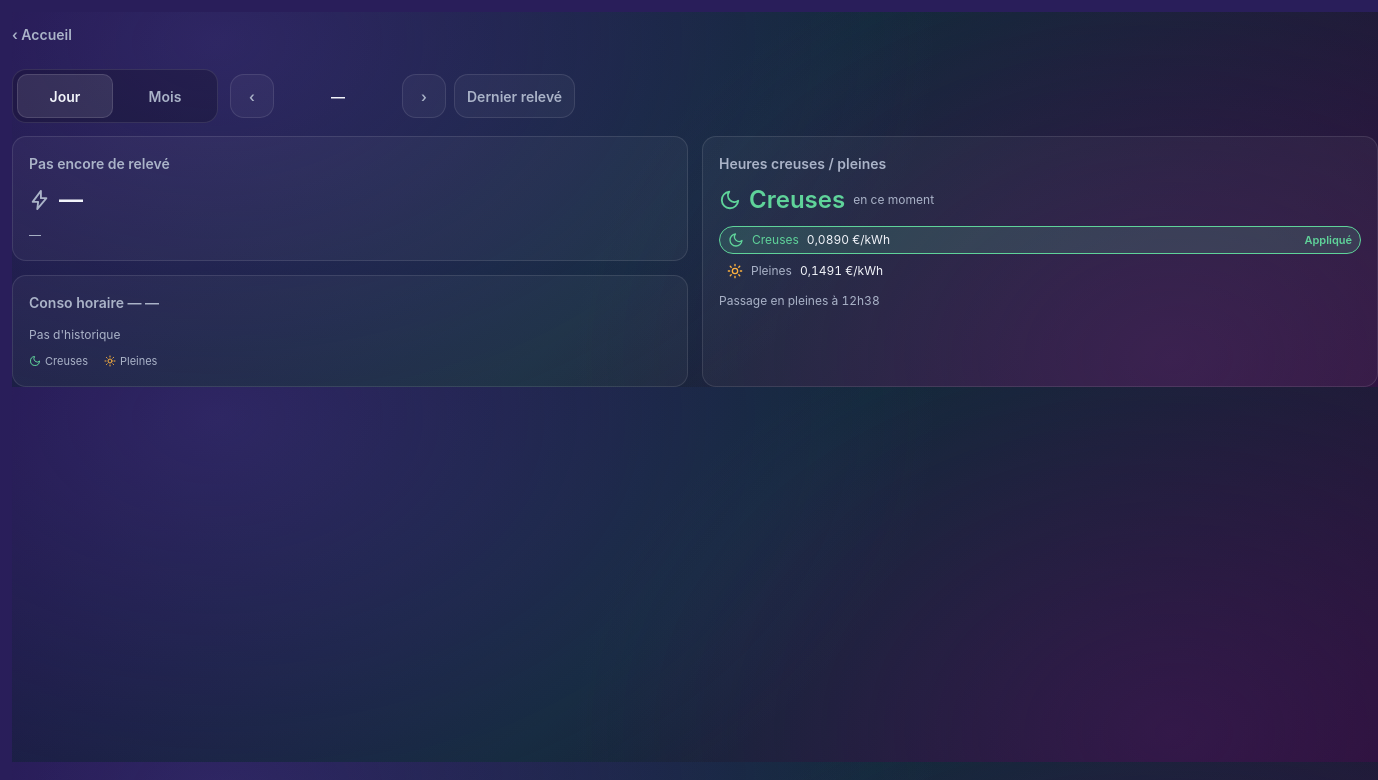
Test: ElectricityDetail (Story 9.5 — ‹ ›, Jour / Mois, « Dernier relevé ») › a month HA has no rows for renders « — » everywhere and no truncated query (N = 0)
The image size is (1378, 780).
Click the tab "Mois". click: [165, 96]
box: [117,74,213,118]
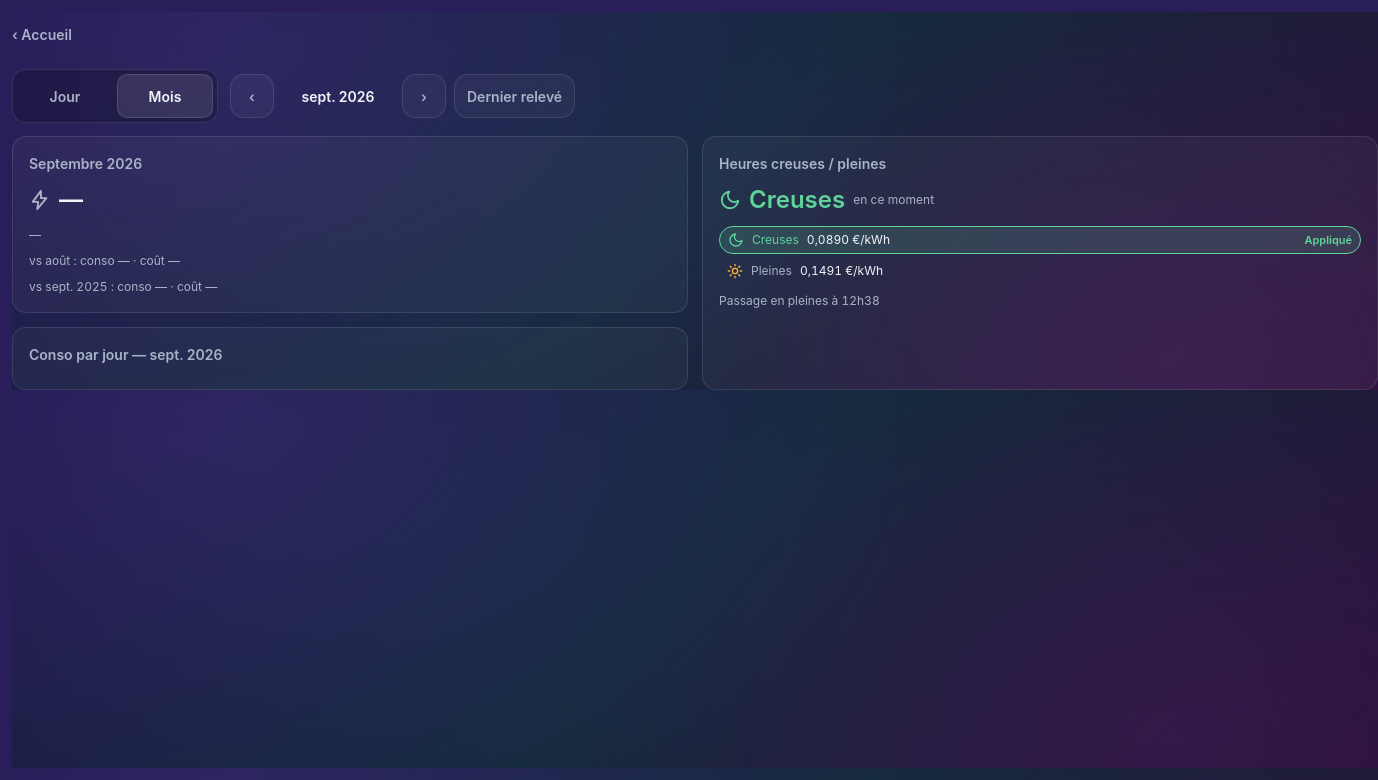
Result: the text "Septembre 2026" is shown at [29,153,142,174]
Result: the text "vs août : conso — · coût —" is shown at [29,253,180,268]
